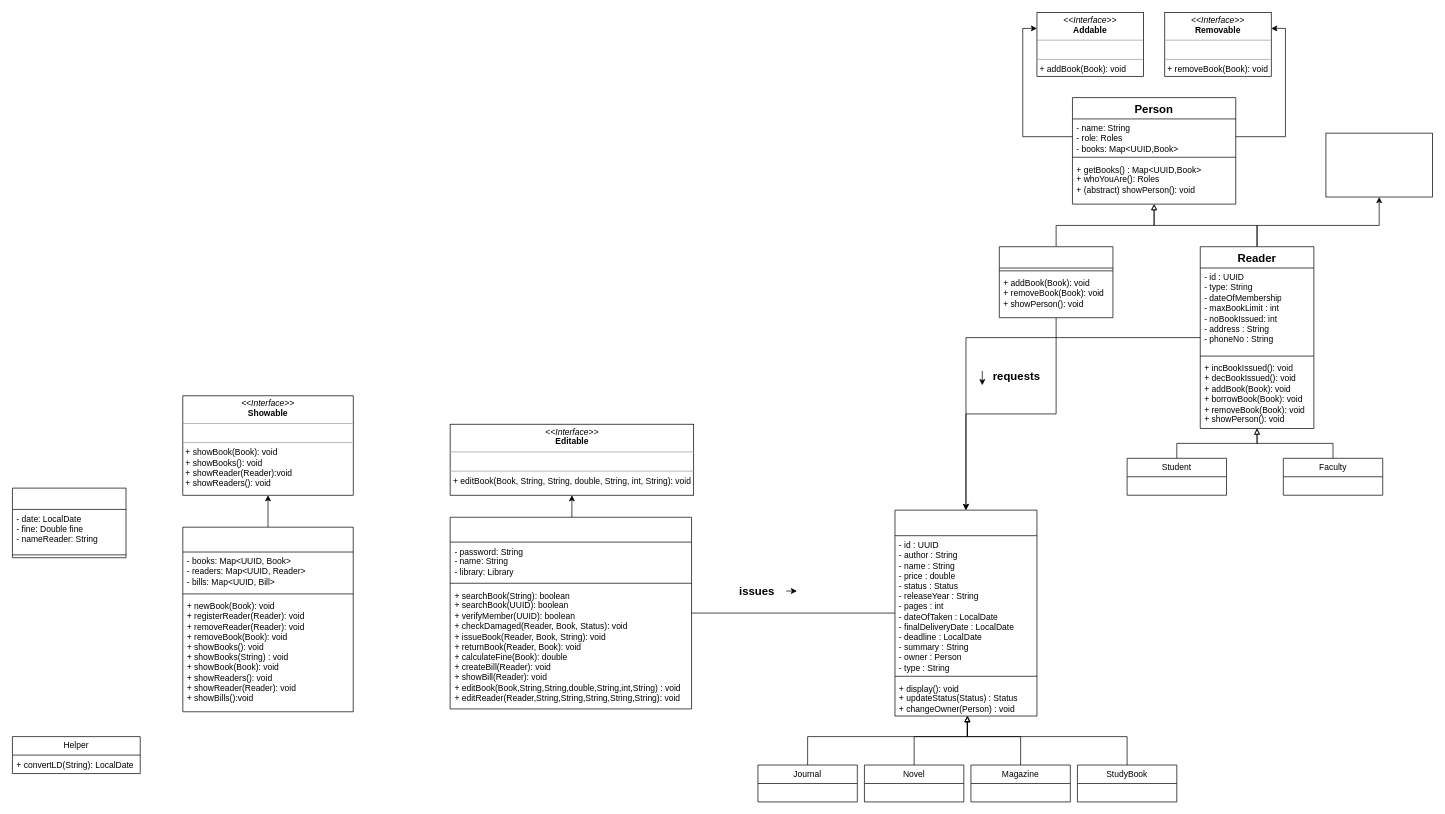
Some shapes in this 1445 by 814 pixel diagram are drawn without their labels. The shapes that lost their labels are listed below. From the top down, each one's box as (x1, y1, x2, y2) in pixels, then its label:
(1325, 132, 1432, 197): <<Interface>> Borrowable + borrowBook(Book): void
(999, 246, 1113, 318): Author
(12, 487, 126, 558): Bill
(182, 526, 353, 712): Library
(449, 517, 692, 709): Librarian
(894, 509, 1037, 716): Book
